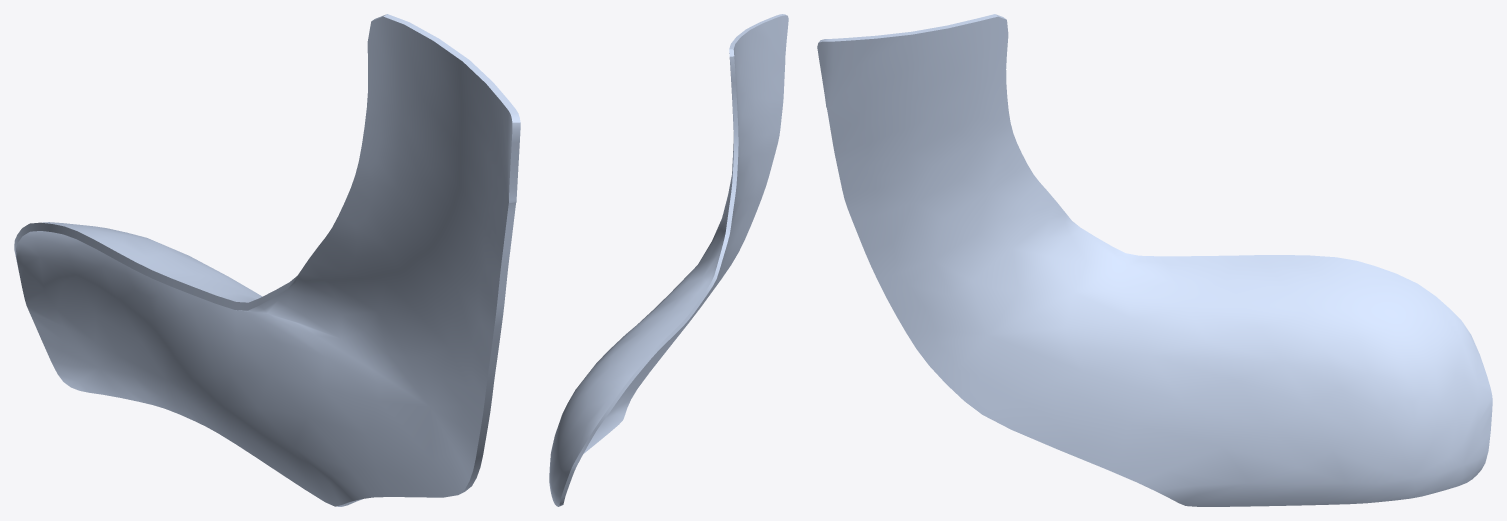
Rendered from rh_pinky_toe.fbx.
3 views of the same model, side by side, from view 1: azimuth 30°, elevation 25°; view 2: azimuth 150°, elevation 25°; view 3: azimuth 270°, elevation 25° (orthographic). The views are drawn at different scales.
Visible parts, largest first — view 1: pinky; view 2: pinky; view 3: pinky.
Part boxes in pixels (x1=…): pinky: x1=14, y1=14, x2=520, y2=506; pinky: x1=549, y1=14, x2=788, y2=506; pinky: x1=817, y1=14, x2=1492, y2=506.
Bounding box in the file's own units: 245 × 813 × 1075.
